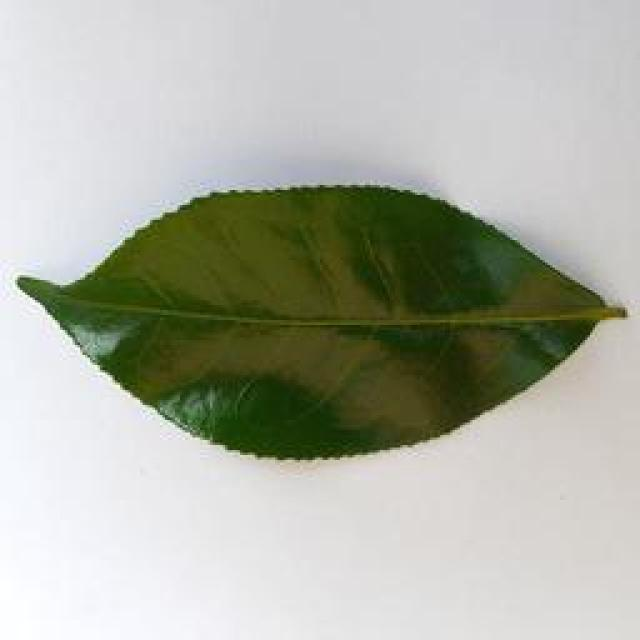Healthy: (18, 182, 640, 466)
